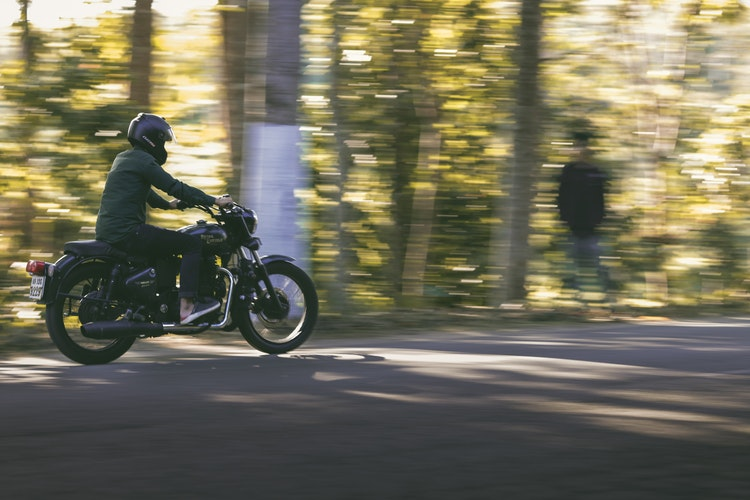helmet: (121, 104, 178, 165)
